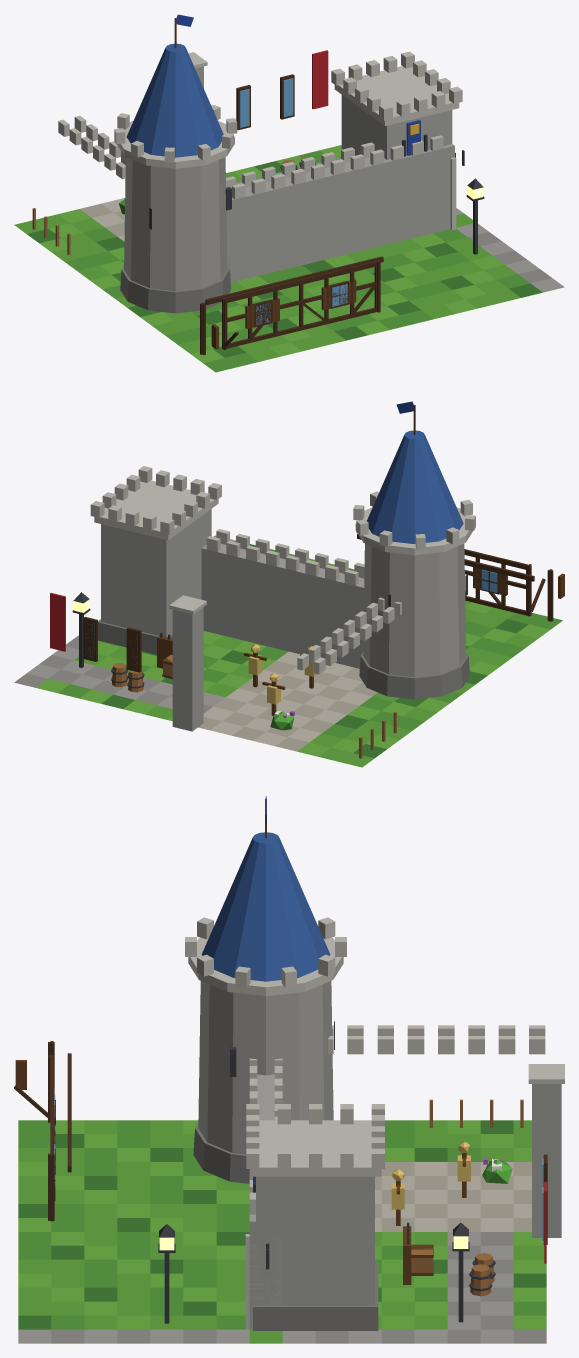
File: chunk_5_4.glb
3 views of the same model, one above another, from view 1: azimuth 30°, elevation 25°; view 2: azimuth 150°, elevation 25°; view 3: azimuth 270°, elevation 25° (orthographic). The views are drawn at different scales.
Visible parts, largest first — view 1: chunk_5_4; view 2: chunk_5_4; view 3: chunk_5_4.
Part boxes in pixels (x1,y1,x2,y2): chunk_5_4: (14,14,564,372); chunk_5_4: (14,401,564,767); chunk_5_4: (14,796,564,1343).
Bounding box in the file's own units: 16.1 × 12.07 × 16.68.
